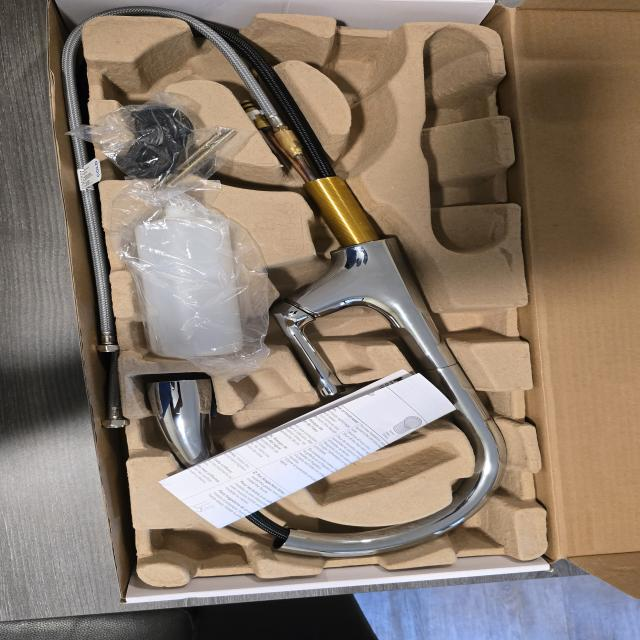1o: (146, 20, 509, 560)
2m: (227, 368, 458, 506)
3o: (132, 187, 248, 356)
4m: (423, 25, 508, 255)
5m: (327, 41, 394, 97)
6m: (106, 40, 198, 102)
7: (65, 92, 252, 200)
8: (155, 369, 459, 530)
